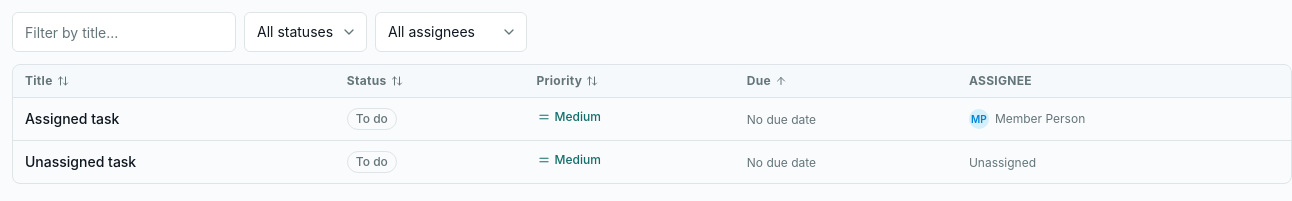
Test: TaskListView › filters tasks by assignee
Select "Member Person" in the dropdown named "Filter by assignee": (451, 32) [375,12,527,52]
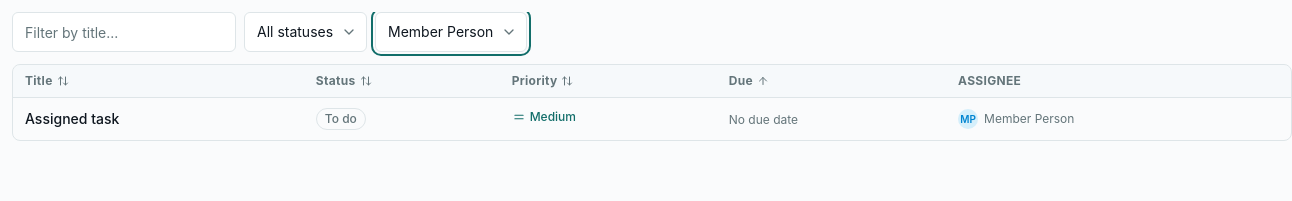
Expected: the text "Assigned task" is shown, [13,98,304,140]
Now the text "Unassigned task" is gone
